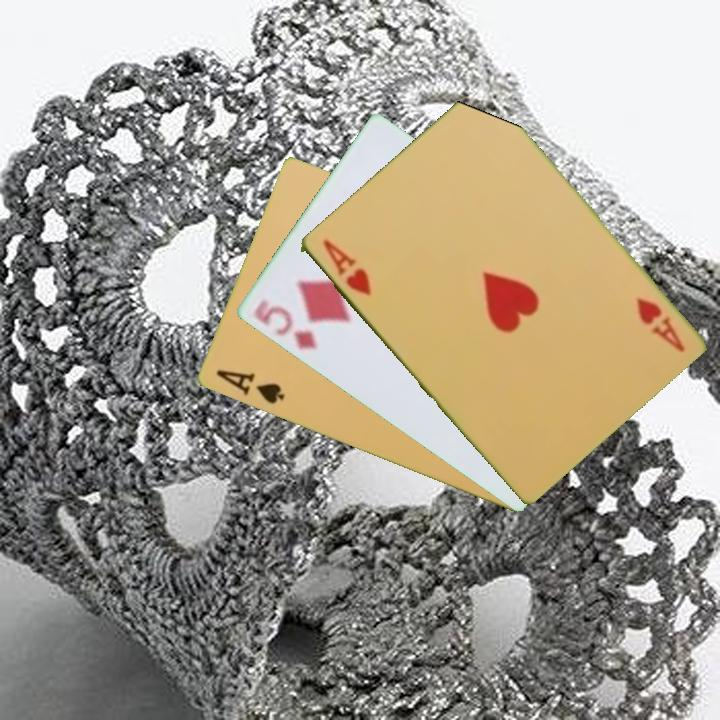5d: (249, 296, 320, 353)
Ah: (318, 235, 374, 299), (631, 294, 687, 356)
As: (212, 366, 287, 407)
